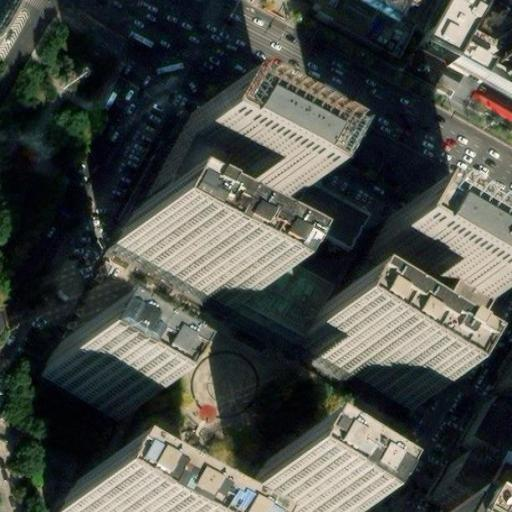building: (128, 193, 265, 298), (179, 97, 308, 203), (306, 302, 439, 401), (368, 209, 496, 311), (242, 248, 335, 335), (34, 348, 132, 427), (291, 177, 369, 244), (317, 0, 409, 56), (406, 292, 472, 368), (429, 461, 512, 512), (248, 466, 339, 512), (151, 144, 210, 210), (447, 412, 505, 471), (466, 26, 512, 76), (483, 322, 512, 383), (58, 488, 115, 512)
